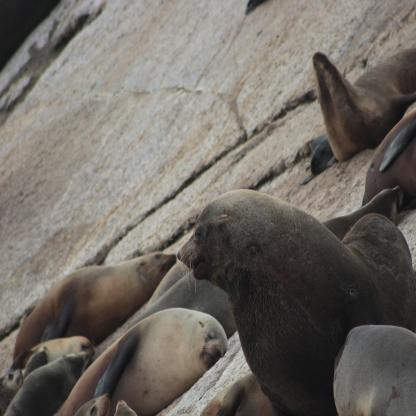face: (174, 218, 214, 286), (196, 327, 230, 372), (67, 346, 92, 378), (154, 249, 178, 280), (86, 391, 112, 416), (2, 368, 25, 393)
